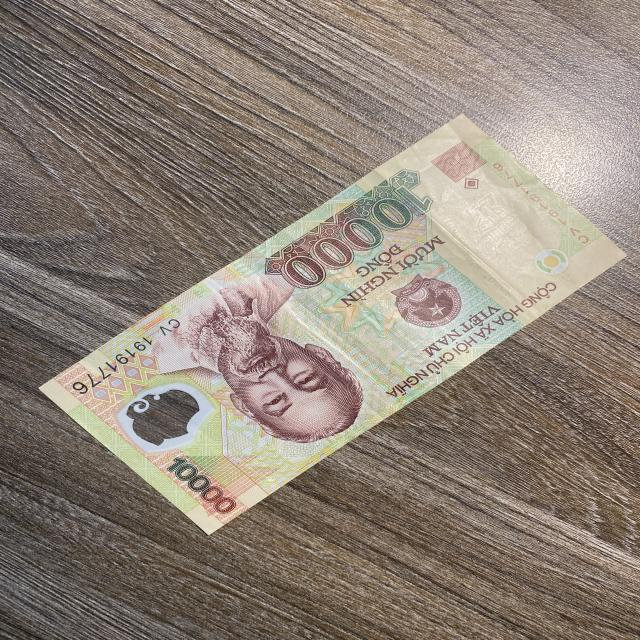10 000 VND: (36, 113, 627, 536)
